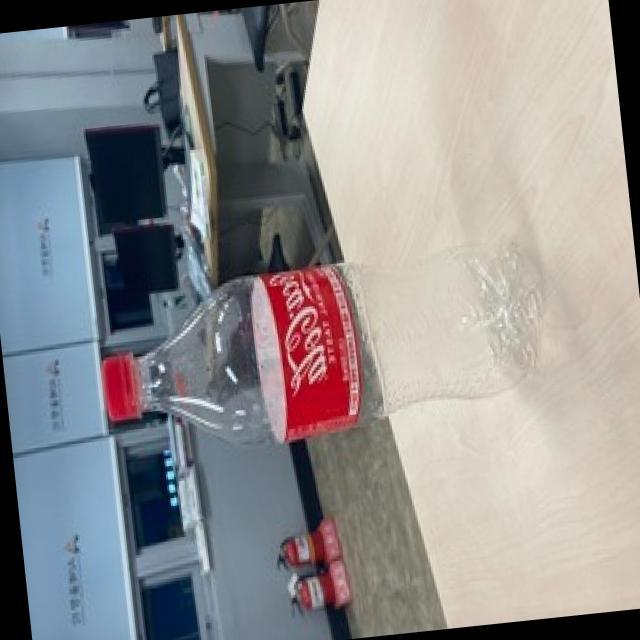good: (80, 231, 574, 464)
